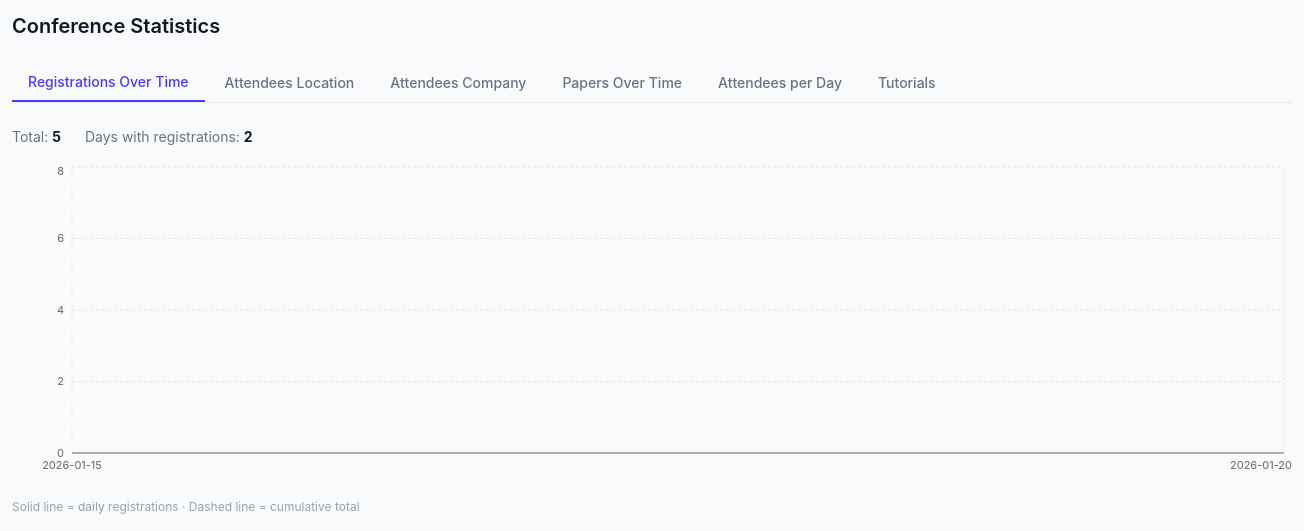
Test: ConferenceStatisticsTab › shows not-applicable message when has_tutorials=false
Click the button "Tutorials" at (907, 83), box x1=862 y1=64 x2=952 y2=102
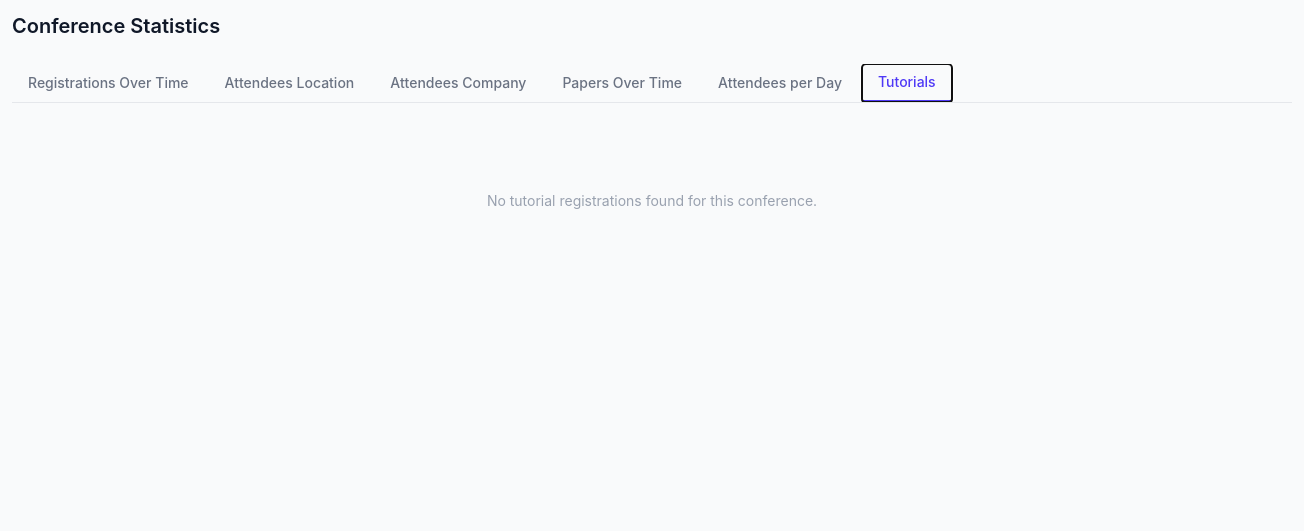
expect the text "No tutorial registrations found for this conference." is shown: met, box x1=487 y1=192 x2=817 y2=209
